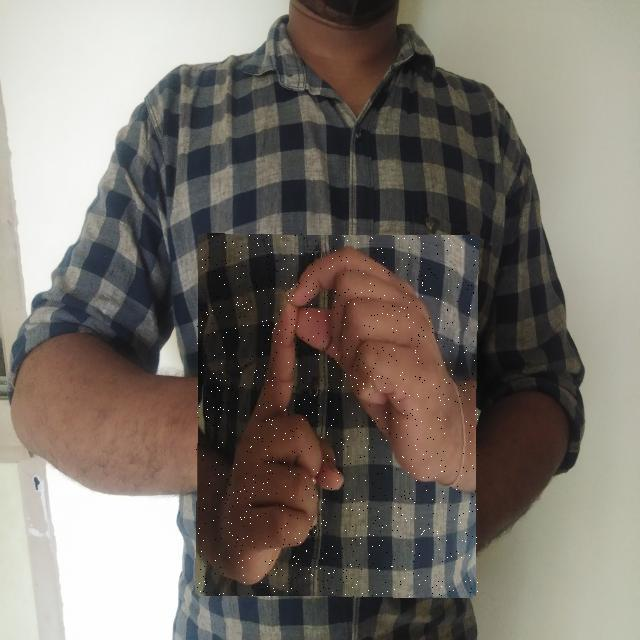P: (196, 234, 478, 597)
